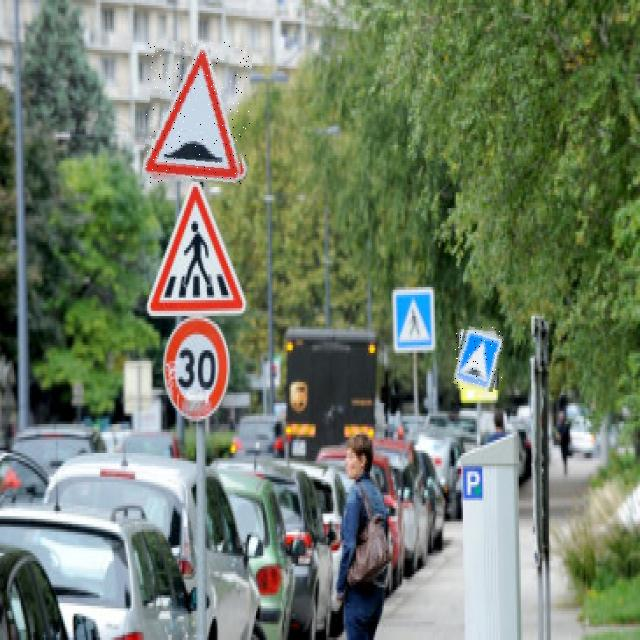hump: (145, 41, 250, 184), (454, 327, 503, 390)
